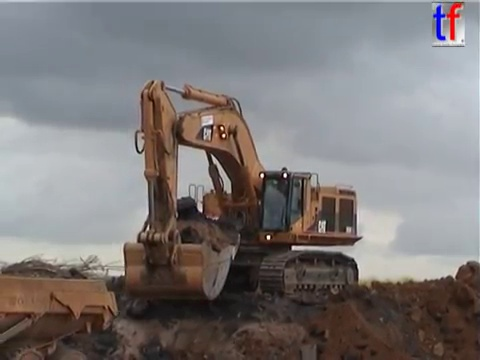excavator: (120, 76, 366, 306)
truck: (1, 271, 121, 360)
